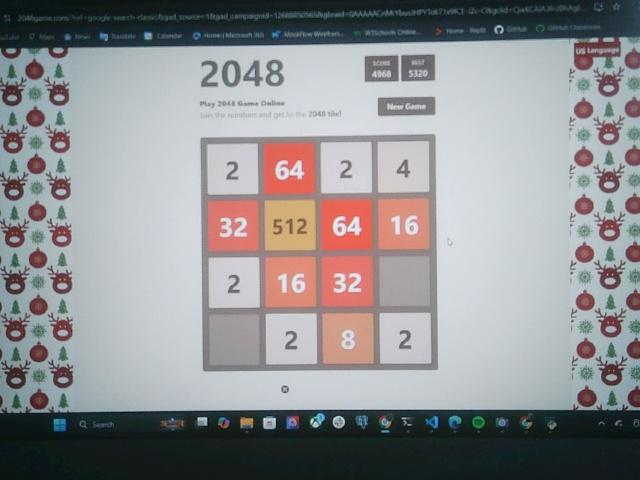board: (201, 137, 438, 371)
tile: (378, 141, 431, 194), (207, 199, 260, 251), (321, 199, 373, 251), (265, 143, 316, 196), (208, 256, 260, 307), (321, 256, 372, 308), (267, 313, 318, 364), (321, 143, 373, 193), (266, 203, 318, 253), (381, 312, 431, 364), (266, 257, 316, 308), (324, 314, 375, 364), (208, 144, 258, 194), (380, 200, 431, 249)
